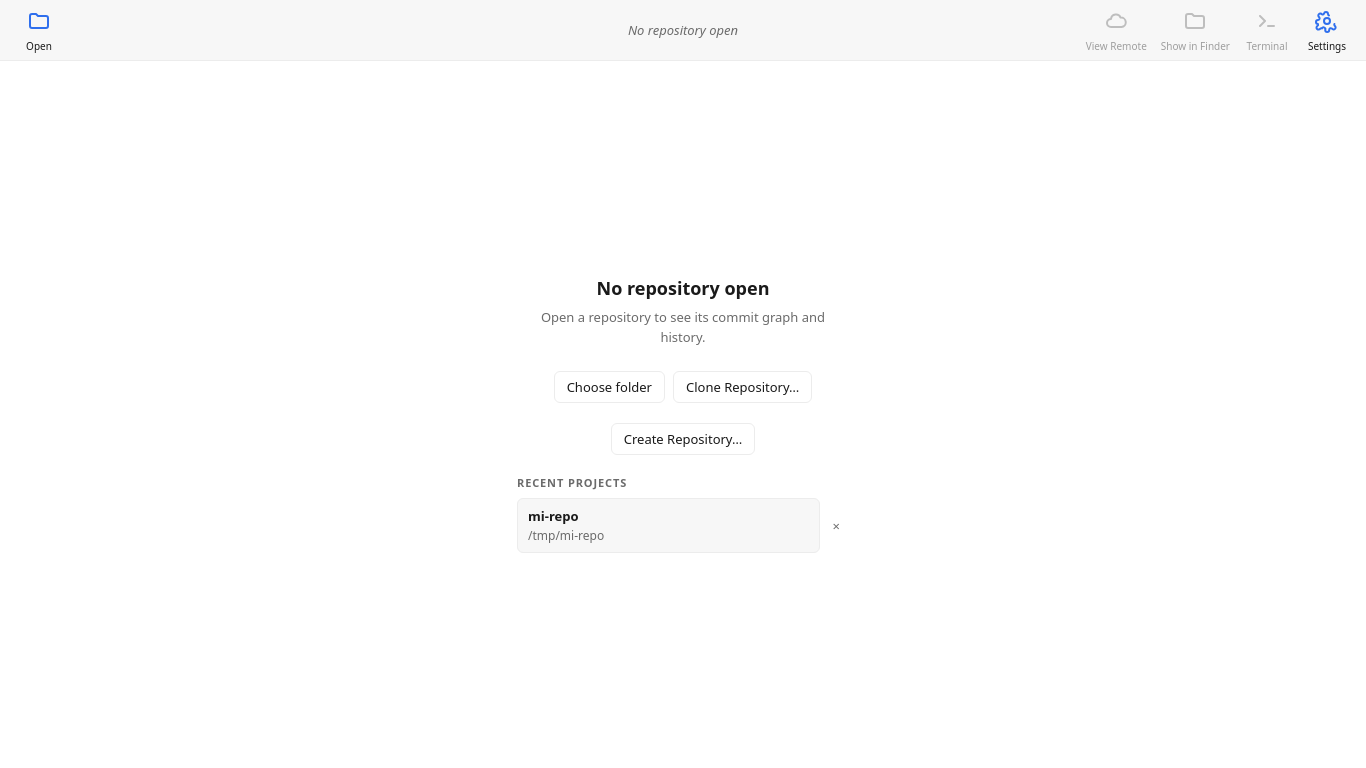
Scenario: App › sorts the table by columns and returns to topological order
Click the button "Choose folder".
click(609, 387)  # box x1=554 y1=371 x2=665 y2=403
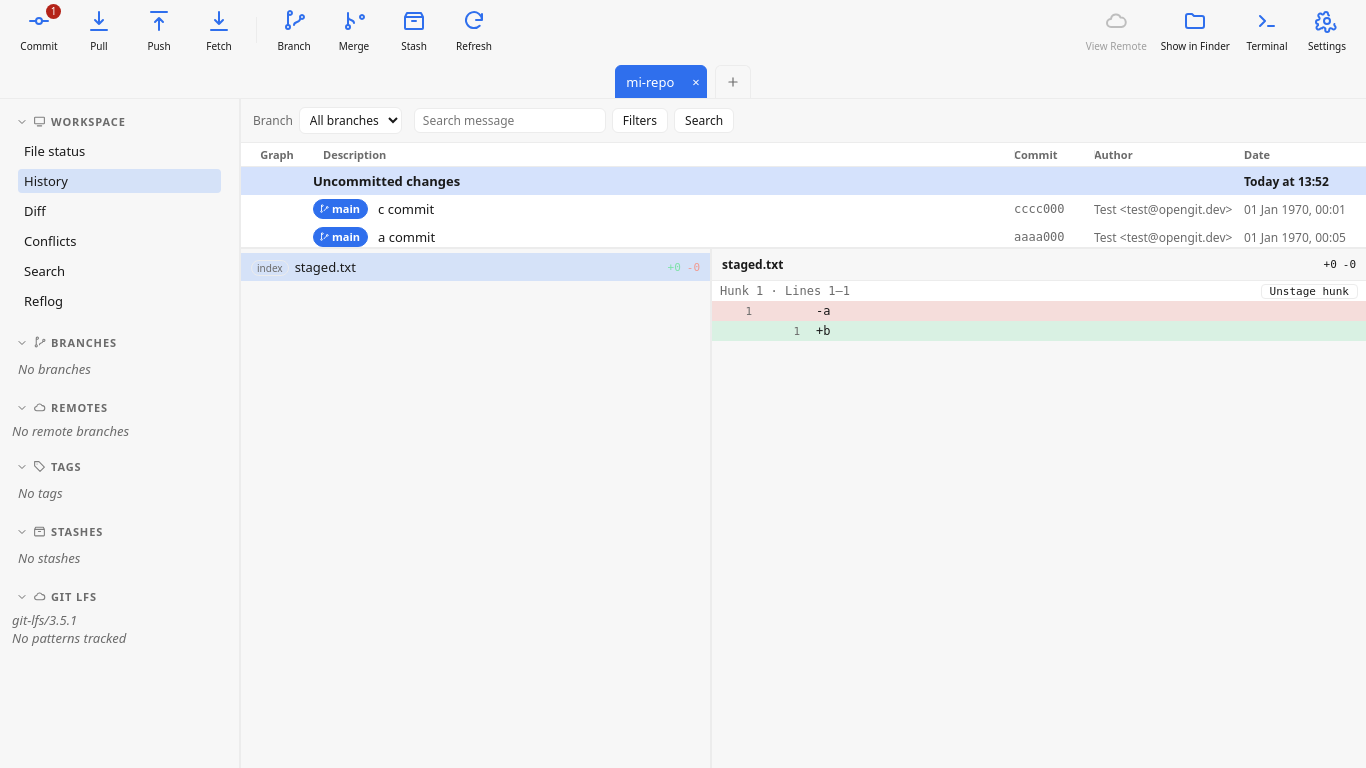
Expected: the drawing with class "history-graph" is shown, x1=241 y1=167 x2=271 y2=247
Ascending by description: the graph is hidden.
Click the button with aria-label "Sort by Description".
click(355, 154)  # box x1=323 y1=147 x2=1004 y2=162
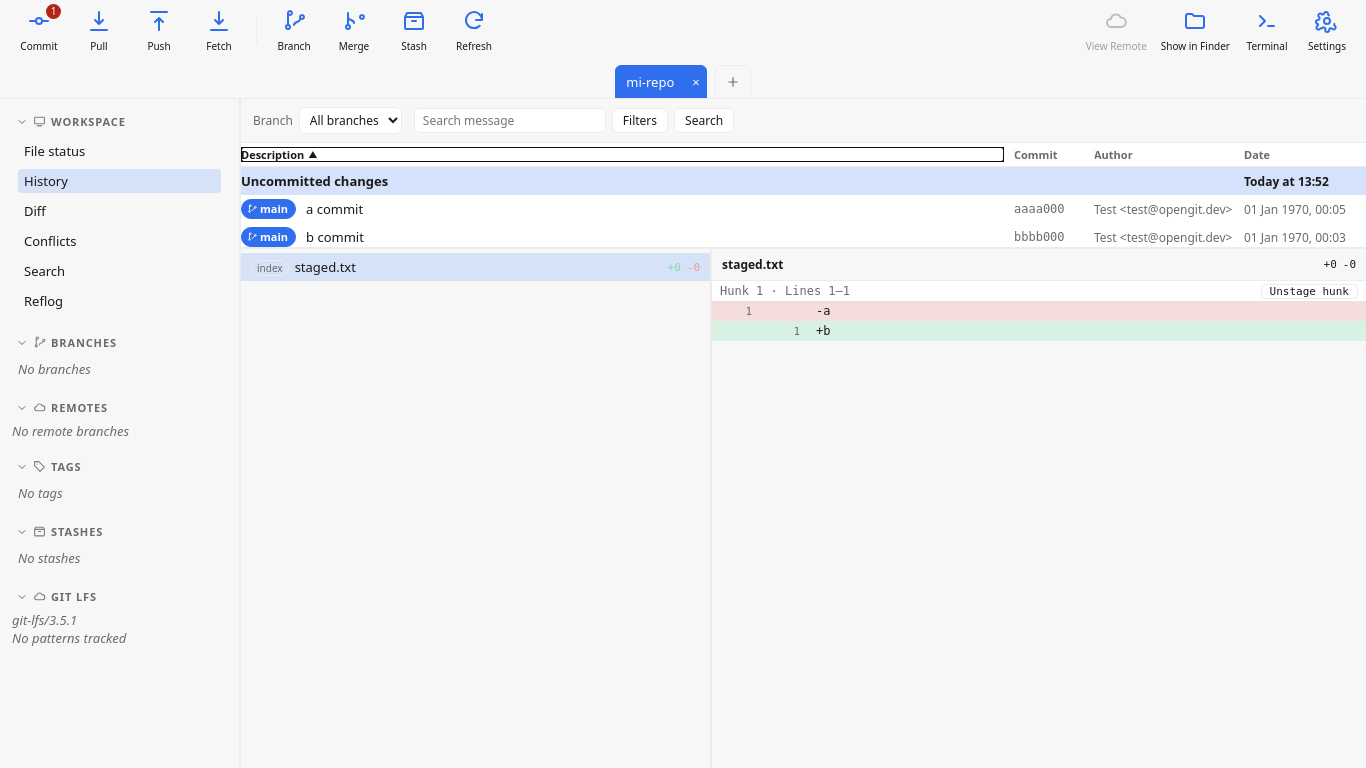
Expected: the drawing with class "history-graph" is gone
Click the button with aria-label "Sort by Description".
click(273, 154)  # box x1=241 y1=147 x2=1004 y2=162
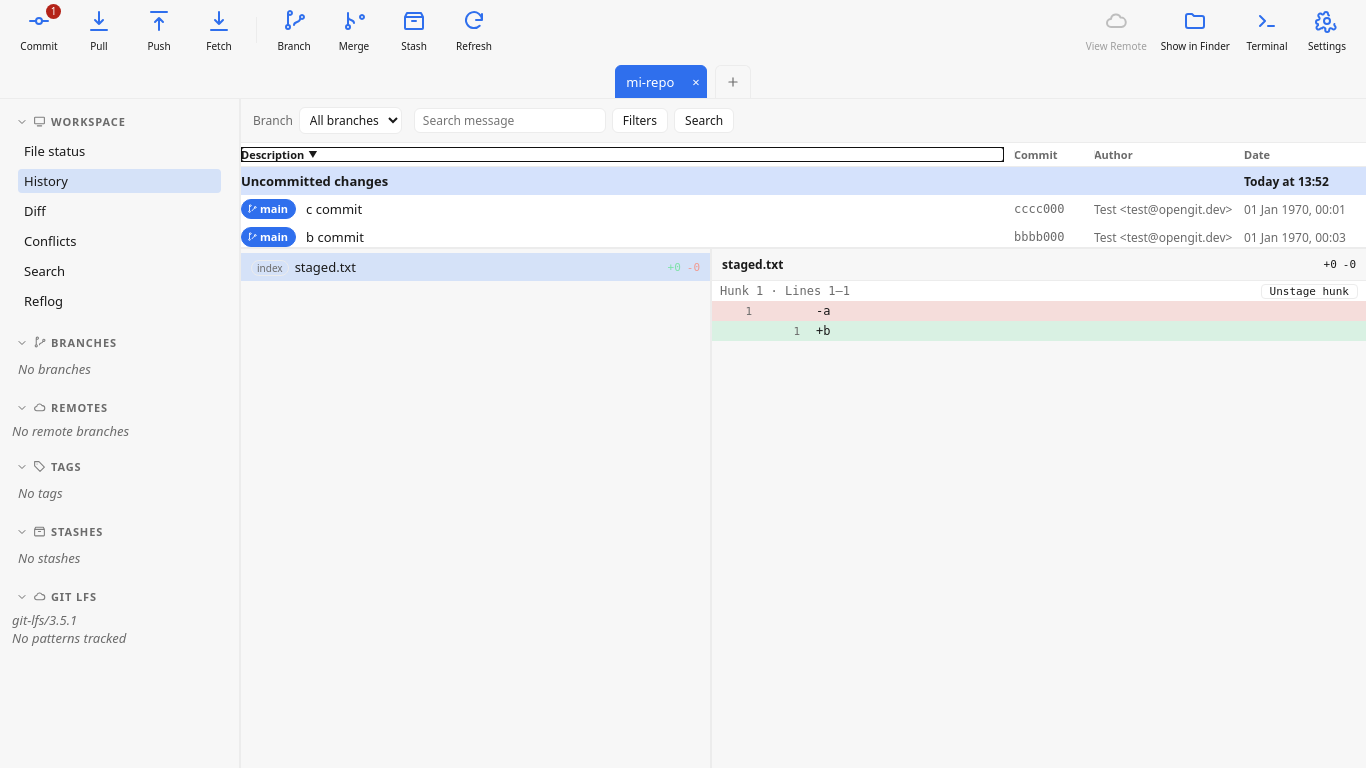
Third click: topological order and the graph come back.
Click the button with aria-label "Sort by Description".
click(273, 154)  # box x1=241 y1=147 x2=1004 y2=162
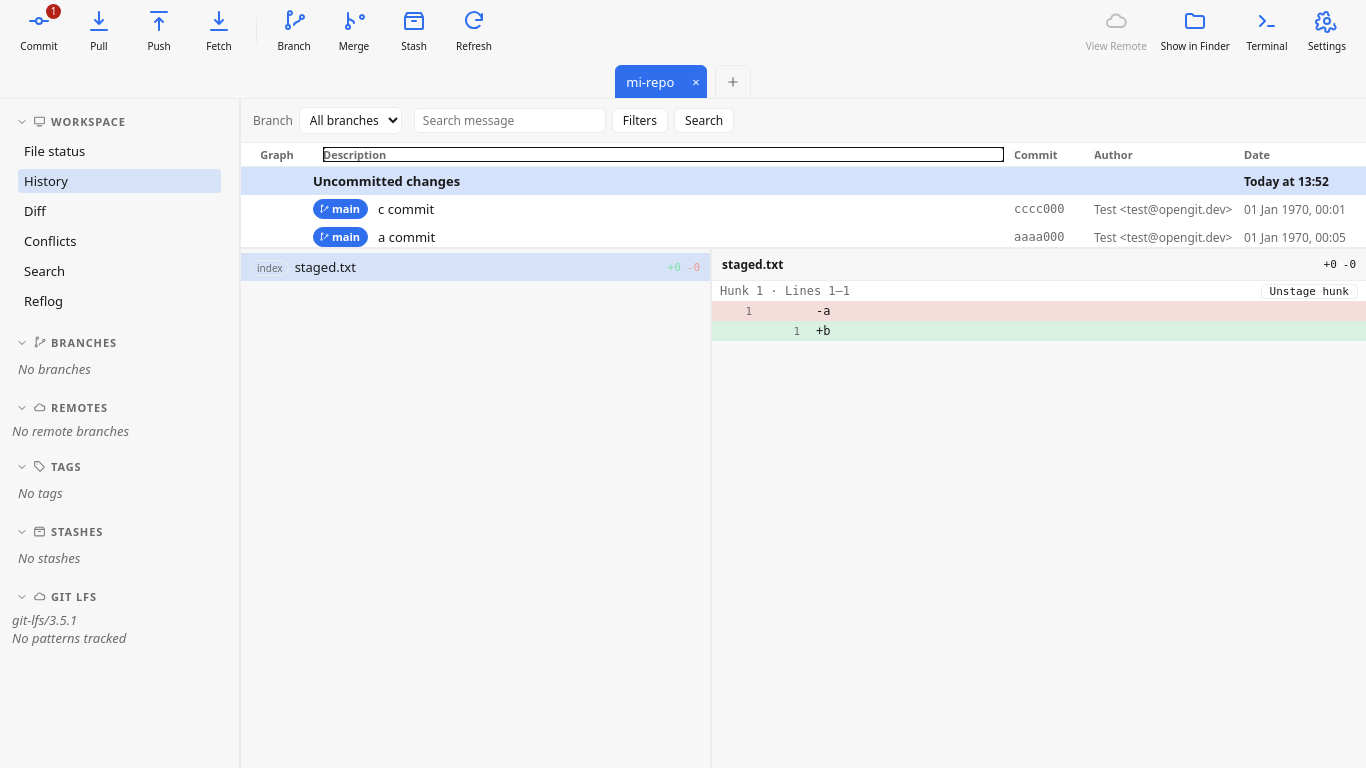
Expected: the drawing with class "history-graph" is shown, x1=241 y1=167 x2=271 y2=247
